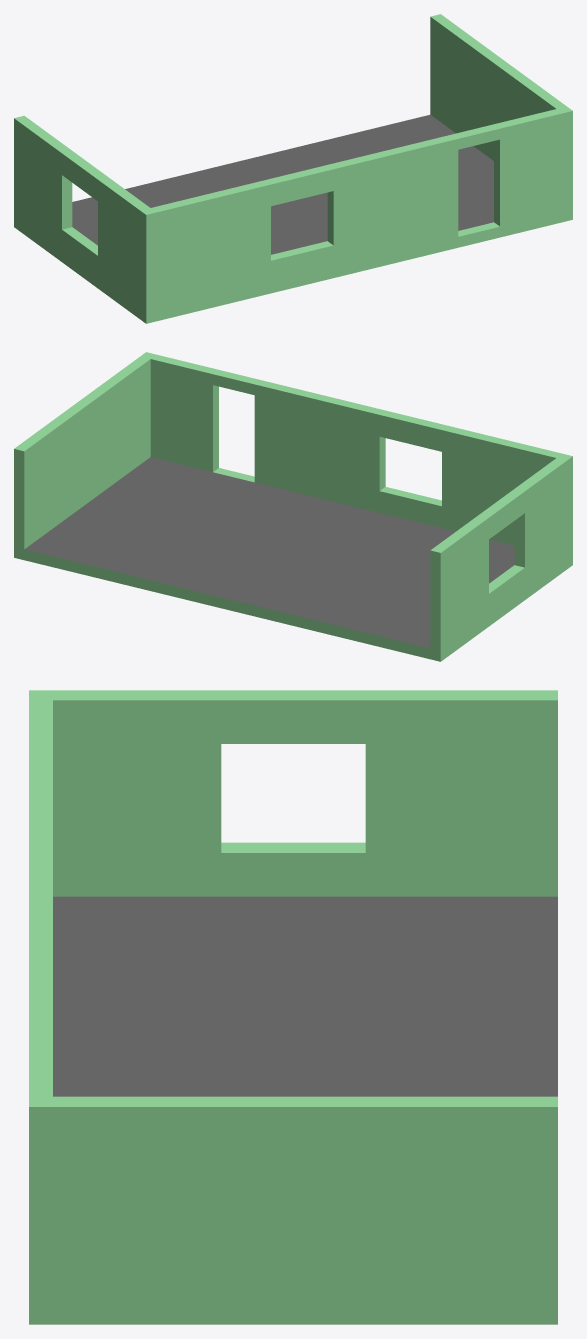
Rendered from MainRoom.fbx.
3 views of the same model, one above another, from view 1: azimuth 30°, elevation 25°; view 2: azimuth 150°, elevation 25°; view 3: azimuth 270°, elevation 25° (orthographic). The views are drawn at different scales.
Parts seen in each view (by area): view 1: room; view 2: room; view 3: room.
Part boxes in pixels (x1=…): room: x1=14, y1=14, x2=572, y2=323; room: x1=14, y1=352, x2=572, y2=661; room: x1=29, y1=690, x2=557, y2=1324.
Bounding box in the file's own units: 2050 × 500 × 1100.
